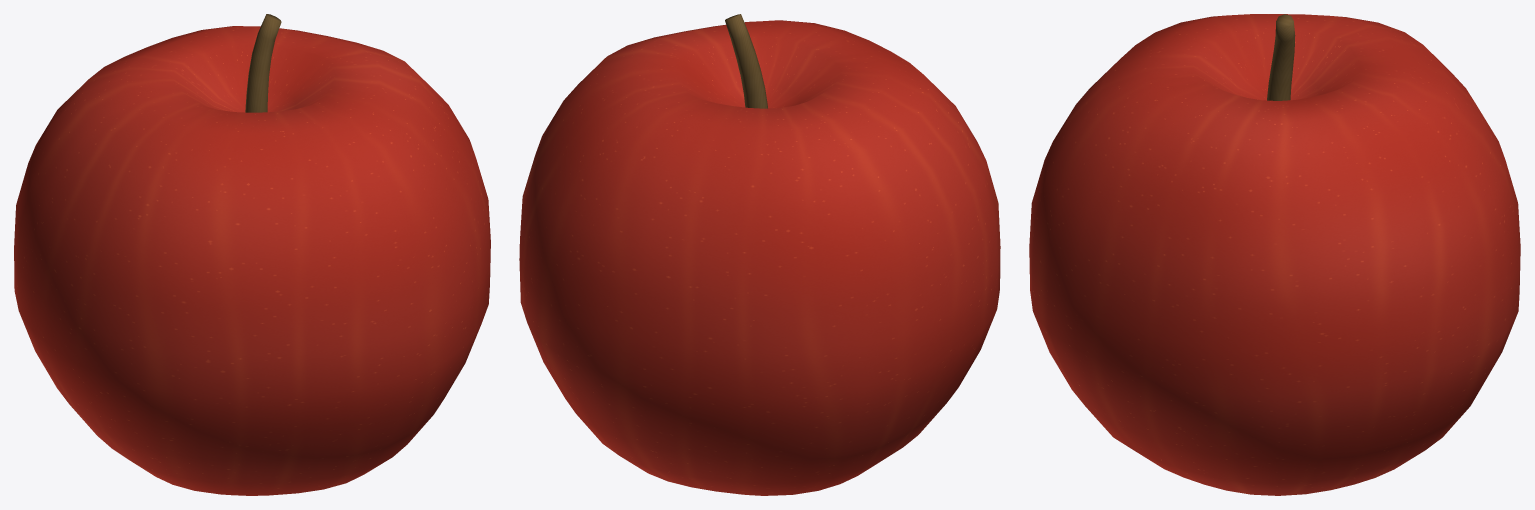
The model's file is apple.glb.
The picture shows the model from 3 angles, left to right: view 1: azimuth 30°, elevation 25°; view 2: azimuth 150°, elevation 25°; view 3: azimuth 270°, elevation 25°; orthographic projection. The views are drawn at different scales.
Parts seen in each view (by area): view 1: Lobed apple body with polar recesses, Curved apple stalk; view 2: Lobed apple body with polar recesses, Curved apple stalk; view 3: Lobed apple body with polar recesses, Curved apple stalk.
Boxes of the visible parts, left/top/right/bottom form: Lobed apple body with polar recesses: left=14, top=26, right=490, bottom=495; Curved apple stalk: left=245, top=14, right=281, bottom=112; Lobed apple body with polar recesses: left=519, top=20, right=1000, bottom=495; Curved apple stalk: left=725, top=14, right=767, bottom=108; Lobed apple body with polar recesses: left=1029, top=14, right=1520, bottom=495; Curved apple stalk: left=1267, top=14, right=1295, bottom=100.
Size of the model in its own units: 0.0768 by 0.0787 by 0.0768.
2 materials, 2 textured.
